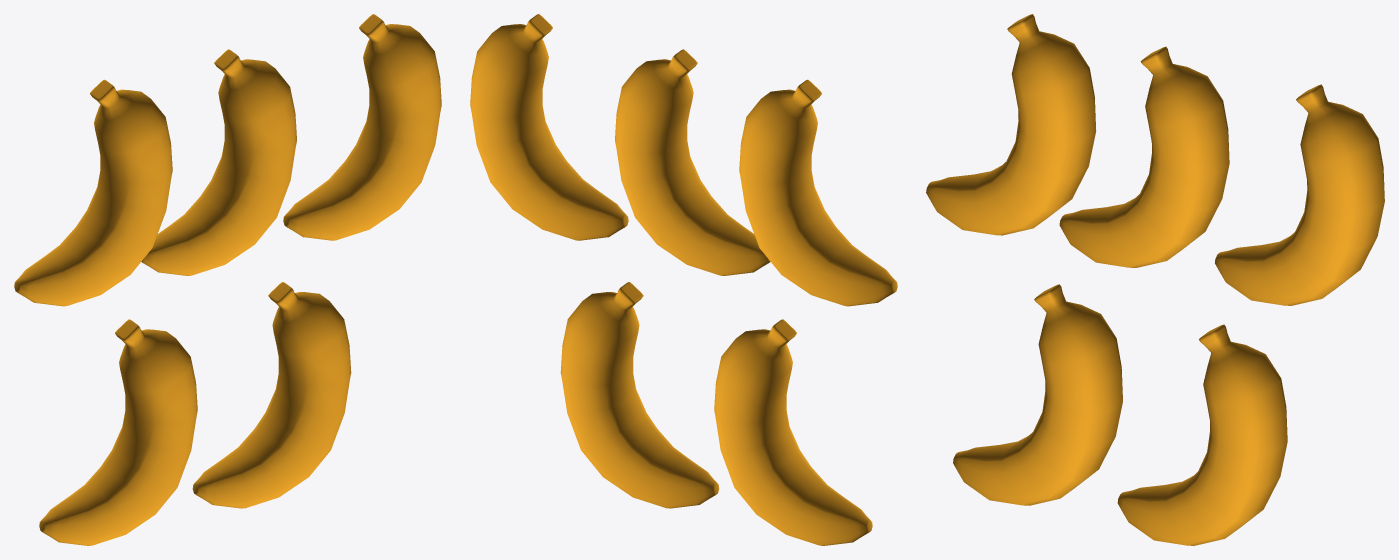
Rendered from 5bananas.glb.
The picture shows the model from 3 angles, left to right: view 1: azimuth 30°, elevation 25°; view 2: azimuth 150°, elevation 25°; view 3: azimuth 330°, elevation 25°; orthographic projection. The views are drawn at different scales.
Parts seen in each view (by area): view 1: Banana.002, Banana.004, Banana, Banana.003, Banana.001; view 2: Banana.002, Banana.004, Banana, Banana.003, Banana.001; view 3: Banana.004, Banana, Banana.001, Banana.002, Banana.003.
Boxes of the visible parts, x1,y1,x2,y2 form: Banana.002: (283, 14, 441, 240); Banana.004: (39, 319, 197, 545); Banana: (14, 79, 172, 306); Banana.003: (192, 282, 351, 508); Banana.001: (141, 49, 296, 275); Banana.002: (470, 14, 628, 240); Banana.004: (714, 319, 872, 545); Banana: (739, 79, 897, 306); Banana.003: (560, 282, 719, 508); Banana.001: (615, 49, 770, 275); Banana.004: (953, 284, 1122, 505); Banana: (926, 14, 1096, 235); Banana.001: (1059, 46, 1229, 267); Banana.002: (1215, 84, 1384, 305); Banana.003: (1117, 324, 1287, 545).
Bounding box in the file's own units: 46.48 × 48.05 × 6.65.
